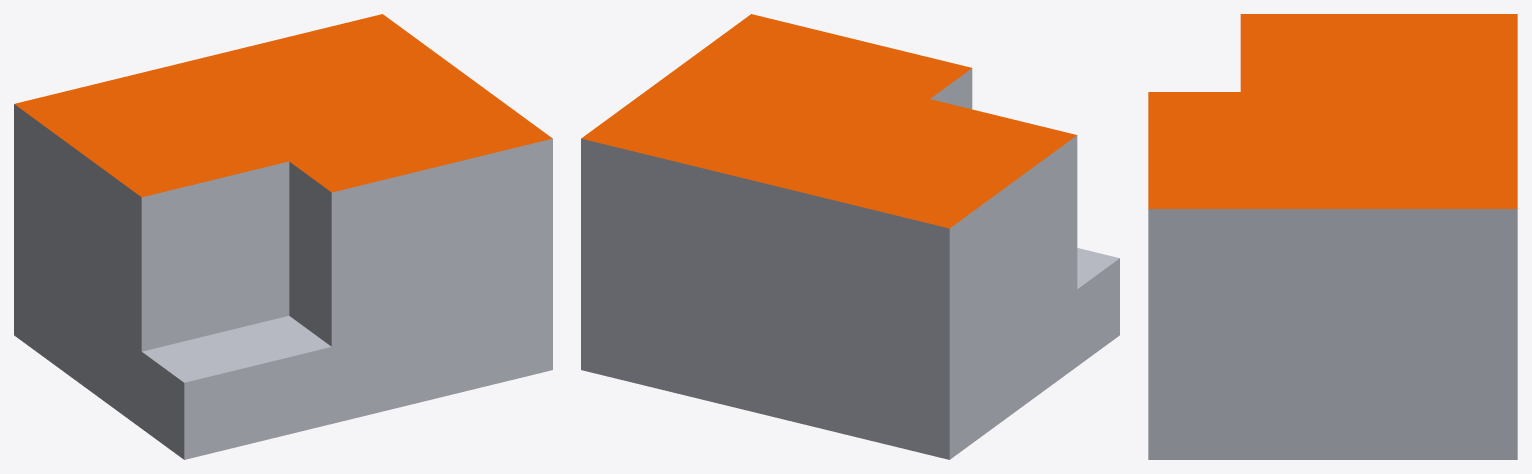
File: onlySide.gltf
3 views of the same model, side by side, from view 1: azimuth 30°, elevation 25°; view 2: azimuth 150°, elevation 25°; view 3: azimuth 270°, elevation 25° (orthographic). The views are drawn at different scales.
Visible parts, largest first — view 1: 3DGeom-10, 3DGeom-11; view 2: 3DGeom-10, 3DGeom-11; view 3: 3DGeom-10, 3DGeom-11.
Boxes of the visible parts, x1,y1,x2,y2 form: 3DGeom-10: (14, 104, 552, 459); 3DGeom-11: (14, 14, 552, 197); 3DGeom-10: (581, 68, 1119, 459); 3DGeom-11: (581, 14, 1076, 228); 3DGeom-10: (1148, 209, 1517, 459); 3DGeom-11: (1148, 14, 1517, 208).
Size of the model in its own units: 0.5 by 0.3 by 0.4.
